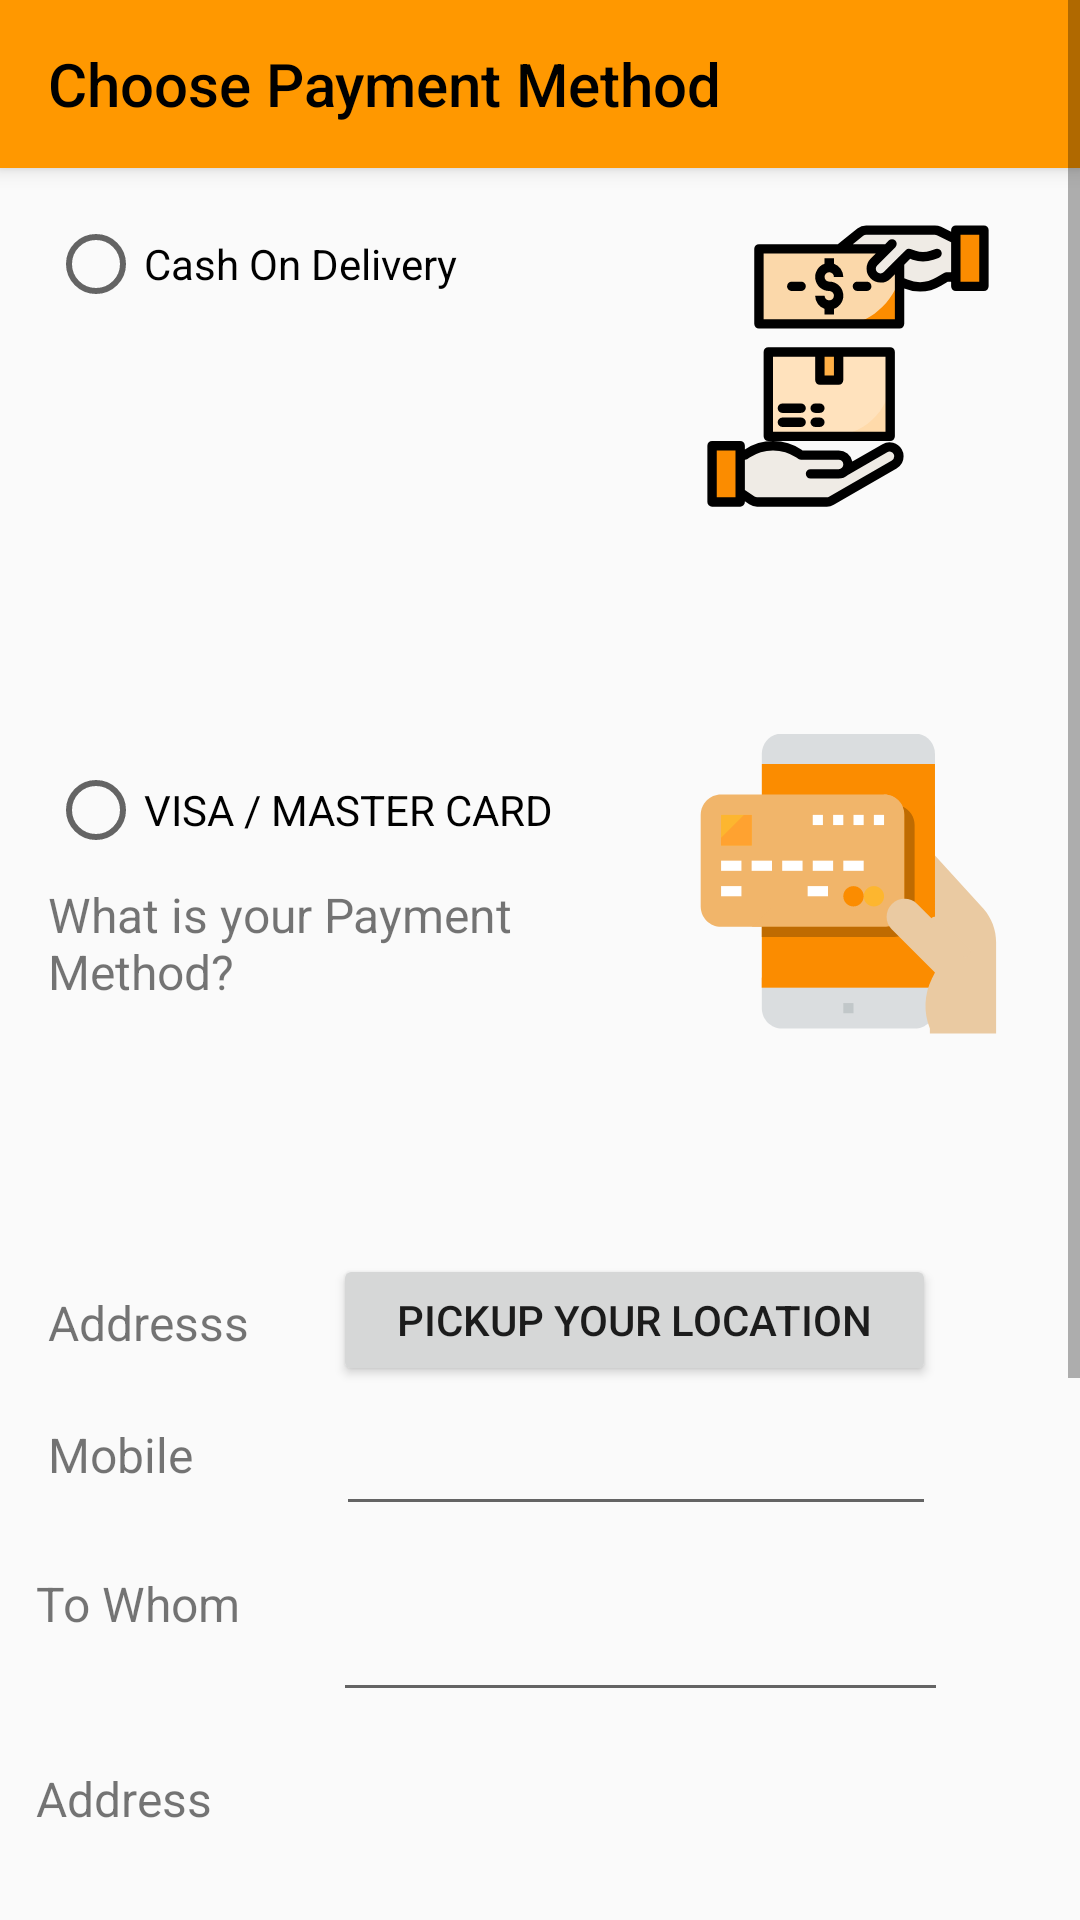

Where to tap for icons on this 1080px x 1920px app screen, as (x,y):
mobile payment: (848,884)
